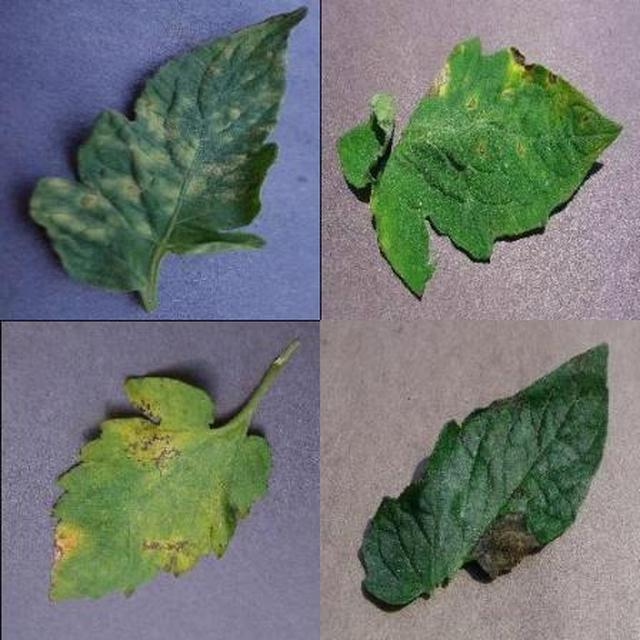Leaf Mold: (227, 212, 640, 640)
